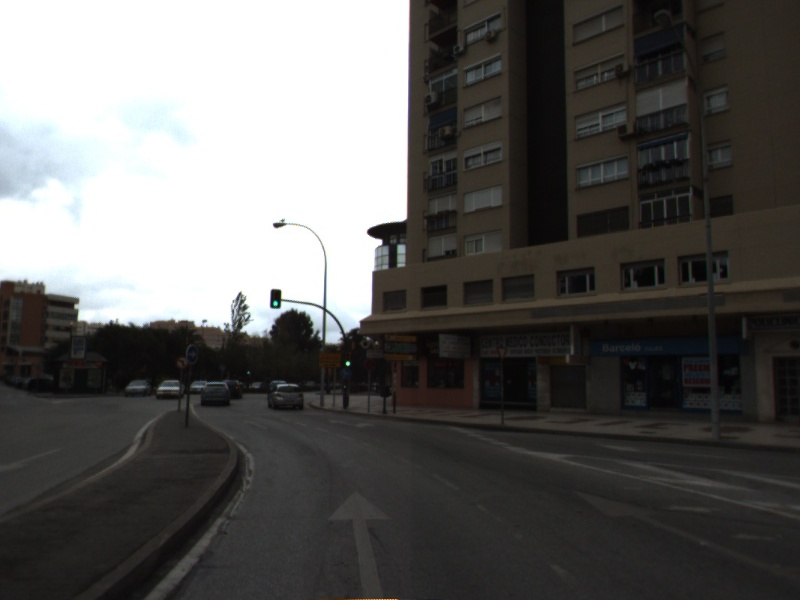STRAIGHT: (571, 485, 800, 584), (323, 486, 397, 600)
